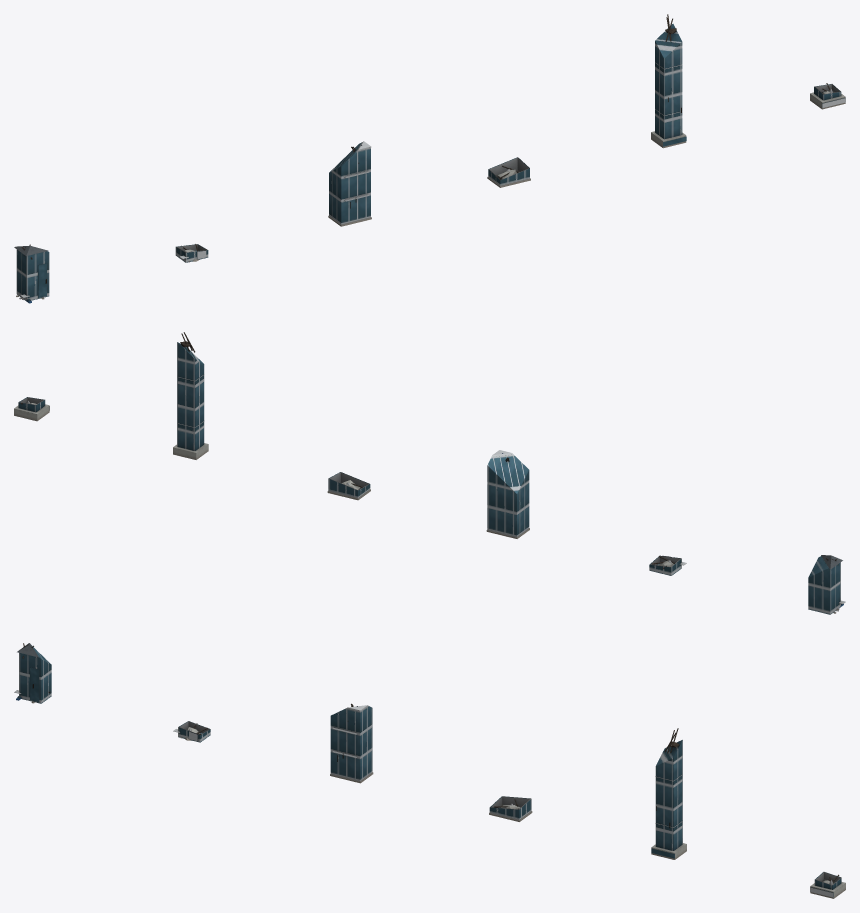
Rendered from information-houses-damage.glb.
3 views of the same model, one above another, from view 1: azimuth 30°, elevation 25°; view 2: azimuth 150°, elevation 25°; view 3: azimuth 330°, elevation 25° (orthographic).
Parts seen in each view (by area): view 1: LOD0.004, LOD0.002, LOD0, LOD0.003, LOD0.005; view 2: LOD0.002, LOD0.004, LOD0, LOD0.003, LOD0.005; view 3: LOD0.004, LOD0.002, LOD0, LOD0.003, LOD0.005, LOD0.001.
Boxes of the visible parts, box(x1,y1,x2,y2) form: LOD0.004: box(651, 14, 686, 148); LOD0.002: box(328, 141, 371, 226); LOD0: box(14, 244, 49, 303); LOD0.003: box(487, 157, 530, 187); LOD0.005: box(810, 83, 845, 109); LOD0.002: box(486, 450, 529, 538); LOD0.004: box(173, 332, 208, 459); LOD0: box(808, 555, 845, 614); LOD0.003: box(327, 472, 370, 500); LOD0.005: box(14, 397, 49, 421); LOD0.004: box(651, 728, 686, 859); LOD0.002: box(330, 703, 373, 783); LOD0: box(14, 643, 51, 703); LOD0.003: box(489, 796, 532, 821); LOD0.005: box(810, 872, 845, 898); LOD0.001: box(173, 721, 210, 742).
Size of what is drawn, in the model's own units: 15.49 by 2.21 by 0.4762.
Materials: 1 (1 with a texture image).
